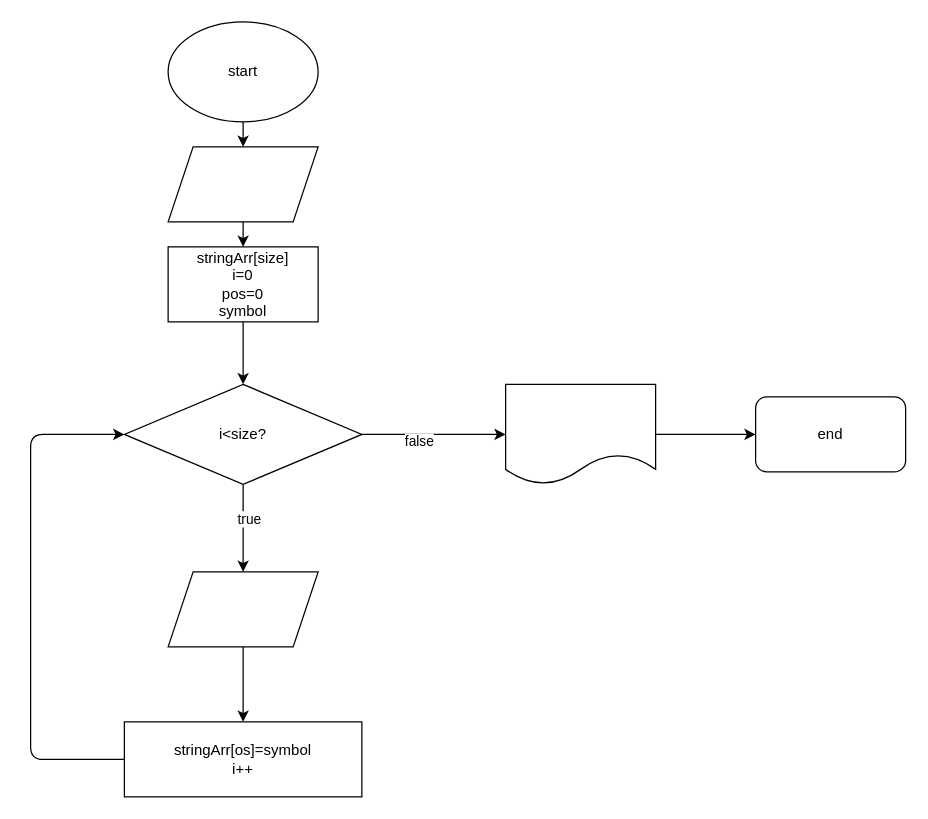
This 928x819 diagram has some shape labels left out. Here are the shapes that lost their labels. From the top down, the box of each, then its label:
(167, 146, 318, 222): size
(504, 383, 656, 484): stringArr
(167, 571, 318, 647): symbol
